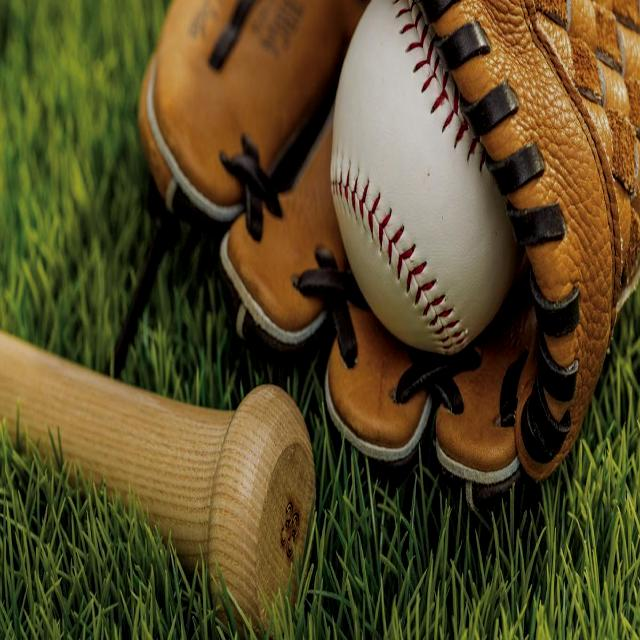baseball bat: (0, 342, 320, 636)
sports ball: (327, 1, 525, 360)
